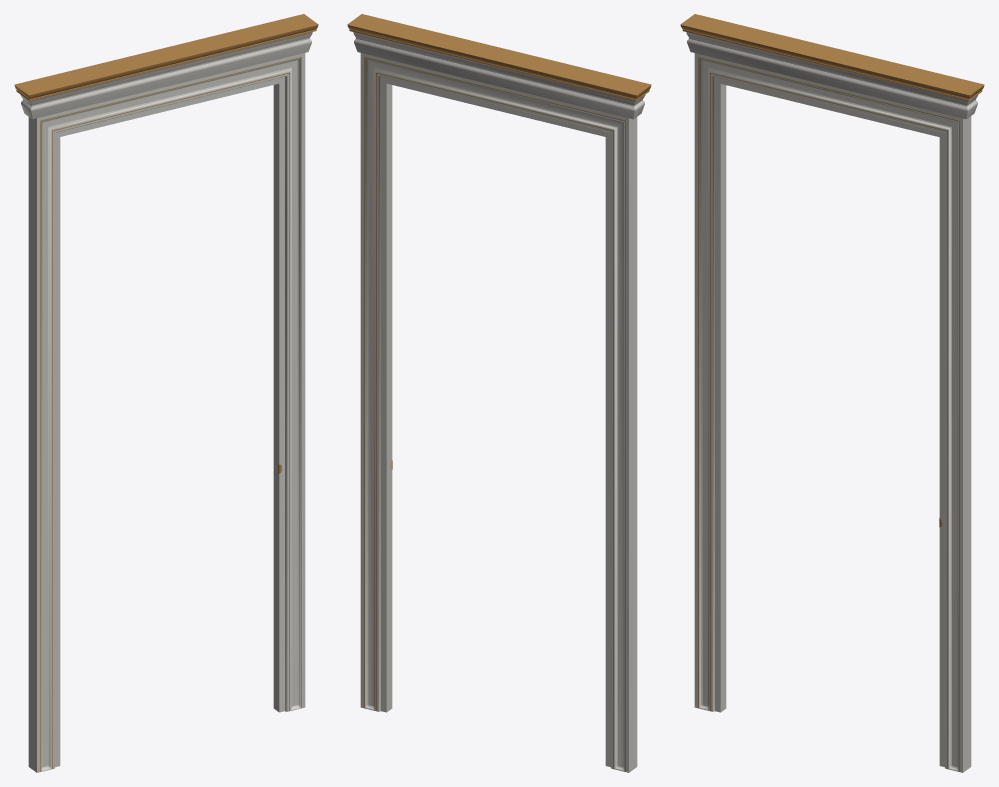
The model's file is 14_ELEGANT_FRAME.glb.
3 views of the same model, side by side, from view 1: azimuth 30°, elevation 25°; view 2: azimuth 150°, elevation 25°; view 3: azimuth 330°, elevation 25° (orthographic).
Parts seen in each view (by area): view 1: 14_ELEGANT_FRAME; view 2: 14_ELEGANT_FRAME; view 3: 14_ELEGANT_FRAME.
Boxes of the visible parts, x1,y1,x2,y2 form: 14_ELEGANT_FRAME: [14, 14, 318, 772]; 14_ELEGANT_FRAME: [347, 14, 651, 772]; 14_ELEGANT_FRAME: [680, 14, 984, 772].
Bounding box in the file's own units: 1.06 × 2.39 × 0.0937.
